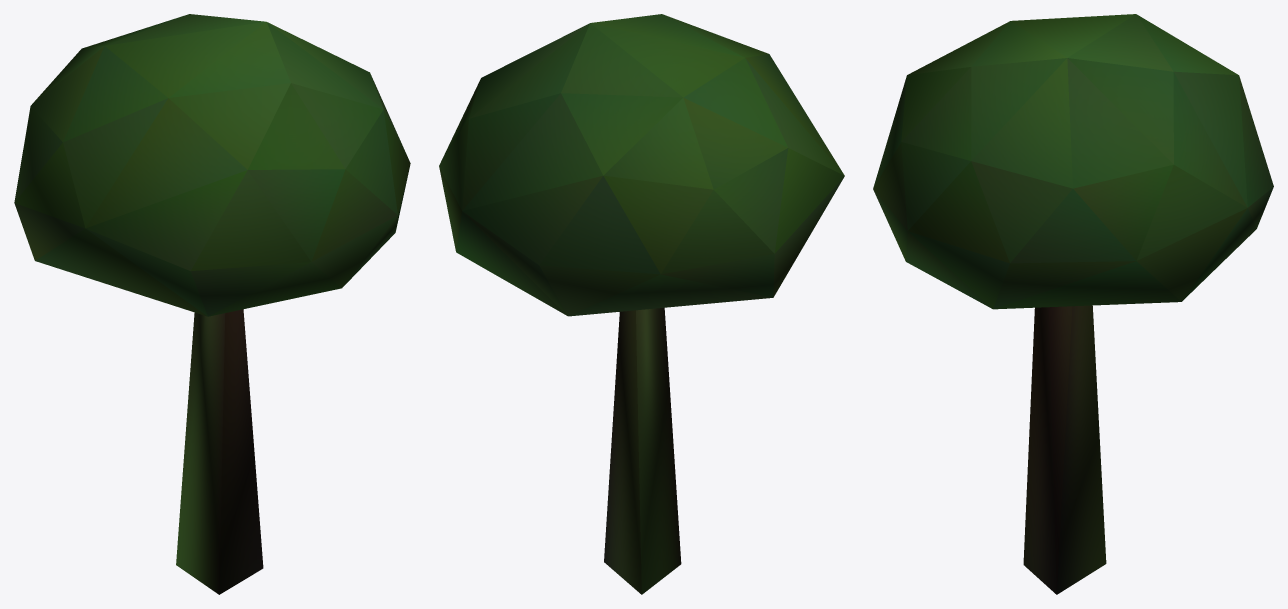
File: tree_bk_foret_broceliande_0003.glb
The picture shows the model from 3 angles, left to right: view 1: azimuth 30°, elevation 25°; view 2: azimuth 150°, elevation 25°; view 3: azimuth 270°, elevation 25°; orthographic projection.
Visible parts, largest first — view 1: tree_bk_003; view 2: tree_bk_003; view 3: tree_bk_003.
Part boxes in pixels (x1,y1,x2,y2): tree_bk_003: [14, 14, 410, 594]; tree_bk_003: [439, 14, 844, 594]; tree_bk_003: [873, 14, 1273, 594].
Bounding box in the file's own units: 3.24 × 5 × 3.36.
